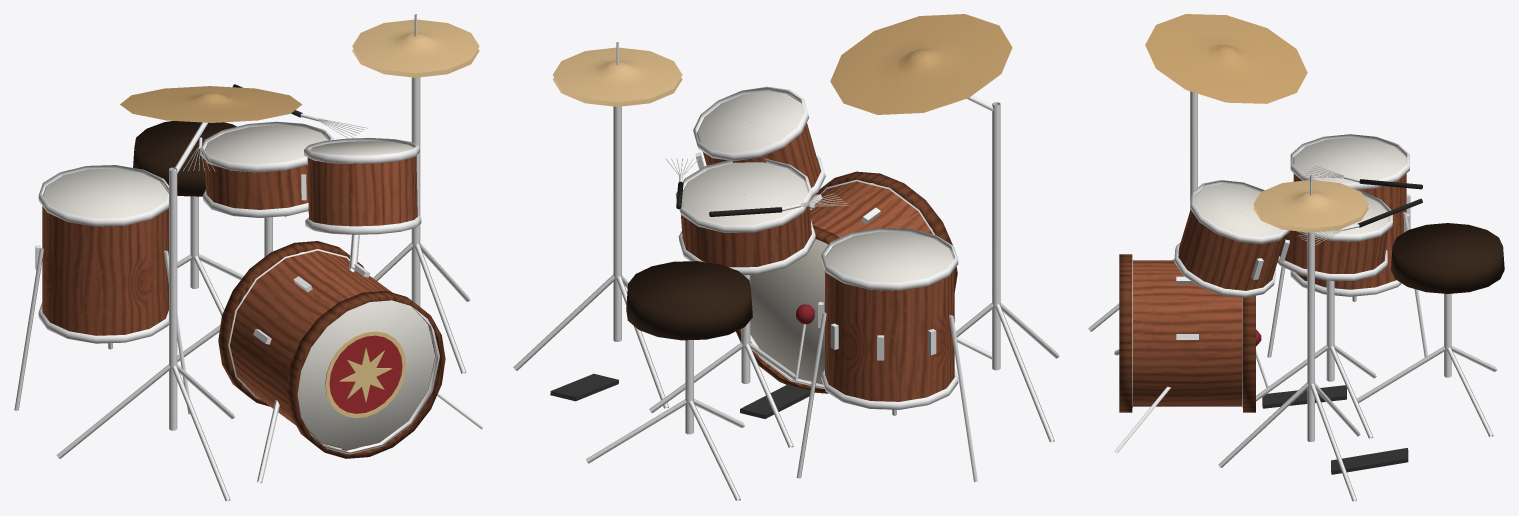
File: instr_drums.lite.glb
The picture shows the model from 3 angles, left to right: view 1: azimuth 30°, elevation 25°; view 2: azimuth 150°, elevation 25°; view 3: azimuth 270°, elevation 25°; orthographic projection. The views are drawn at different scales.
Parts seen in each view (by area): view 1: drums_wood, drums_chrome, drums_drumhead, drums_bronze, drums_leather, drums_enamel, drums_gilt; view 2: drums_wood, drums_chrome, drums_drumhead, drums_bronze, drums_leather, drums_blackmetal; view 3: drums_wood, drums_chrome, drums_bronze, drums_drumhead, drums_leather, drums_blackmetal.
Part boxes in pixels (x1,y1,x2,y2): drums_wood: (42, 134, 445, 458); drums_chrome: (14, 14, 484, 501); drums_drumhead: (42, 125, 435, 450); drums_bronze: (120, 19, 479, 122); drums_leather: (133, 121, 236, 196); drums_enamel: (329, 335, 402, 413); drums_gilt: (325, 331, 406, 418); drums_wood: (681, 94, 957, 401); drums_chrome: (513, 42, 1059, 501); drums_drumhead: (682, 91, 953, 383); drums_bronze: (552, 14, 1012, 114); drums_leather: (626, 261, 752, 340); drums_blackmetal: (550, 373, 810, 418); drums_wood: (1119, 153, 1406, 412); drums_chrome: (1088, 91, 1497, 501); drums_bronze: (1145, 14, 1368, 232); drums_drumhead: (1179, 137, 1407, 279); drums_leather: (1391, 223, 1504, 293); drums_blackmetal: (1262, 385, 1408, 474).
Bounding box in the file's own units: 1.52 × 1.09 × 1.28.
Materials: 11 (1 with a texture image).
